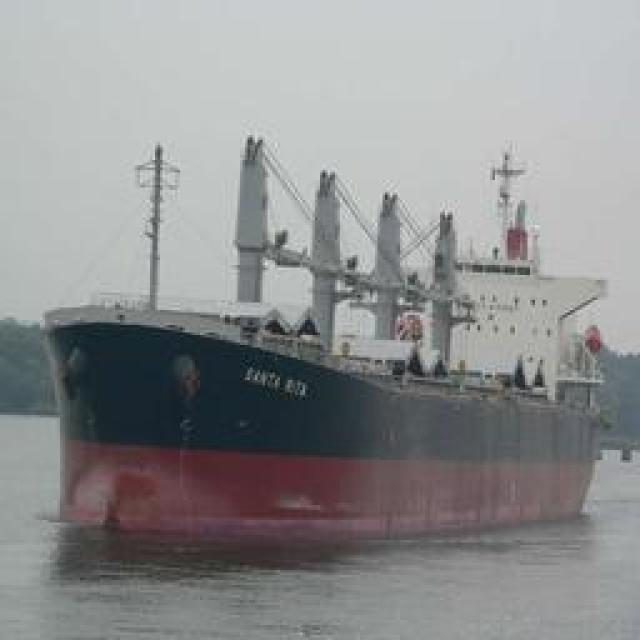CIV_Ship: (44, 302, 618, 556)
